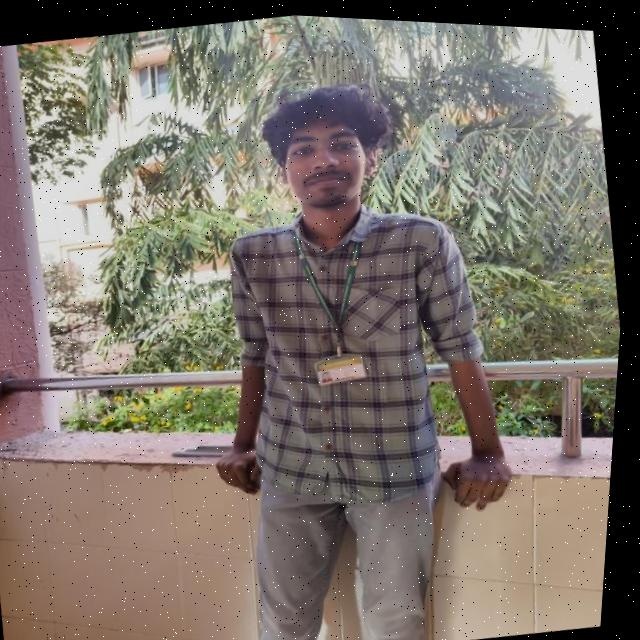id_card: (286, 214, 390, 391)
